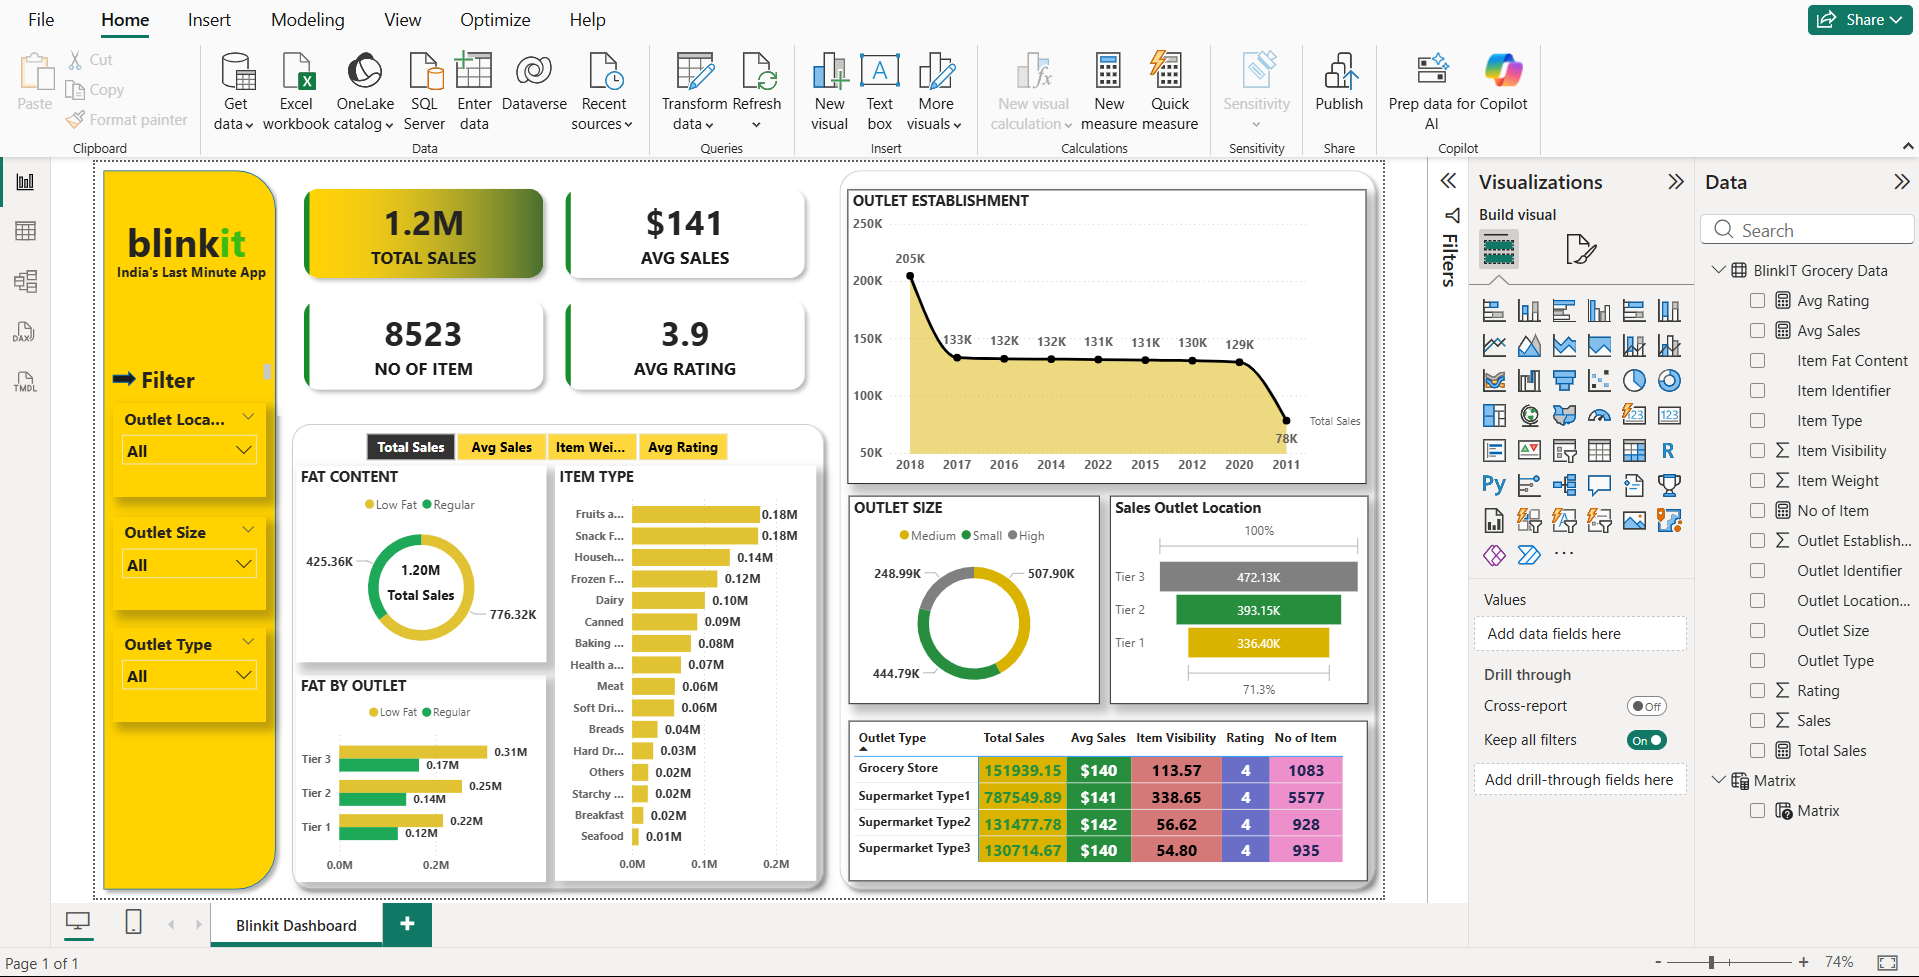

The dashboard page shown, as its layout file describes it:
{"tool":"powerbi","page":{"name":"Blinkit Dashboard","canvas":[1400,800],"ordinal":0},"visuals":[{"type":"shape","box":[0,0,205.6,800],"z":0},{"type":"textbox","box":[29.3,51.7,148.2,70.6],"z":1000},{"type":"textbox","box":[19,105.1,179.2,34.5],"z":2000},{"type":"cardVisual","fields":{"Data":["BlinkIT Grocery Data.Total Sales","BlinkIT Grocery Data.Ave Sales","BlinkIT Grocery Data.No of Item","BlinkIT Grocery Data.Avg Rating"]},"box":[198.1,0,603.3,276.2],"z":3000},{"type":"shape","box":[205,275.6,596.1,523.7],"z":4000},{"type":"donutChart","title":"FAT CONTENT","fields":{"Y":["BlinkIT Grocery Data.Total Sales"],"Category":["BlinkIT Grocery Data.Item Fat Content"]},"box":[218.8,330.8,272.2,213.6],"z":5000},{"type":"slicer","fields":{"Values":["Matrix.Matrix"]},"box":[268.7,287.7,442.7,43.1],"z":6000},{"type":"card","fields":{"Values":["BlinkIT Grocery Data.Total Sales"]},"box":[310.1,415.2,89.6,79.2],"z":7000},{"type":"clusteredBarChart","title":"FAT BY OUTLET","fields":{"Y":["BlinkIT Grocery Data.Total Sales"],"Category":["BlinkIT Grocery Data.Outlet Location Type"],"Series":["BlinkIT Grocery Data.Item Fat Content"]},"box":[218.8,556.4,272.2,225.7],"z":8000},{"type":"barChart","title":"ITEM TYPE","fields":{"Y":["BlinkIT Grocery Data.Total Sales"],"Category":["BlinkIT Grocery Data.Item Type"]},"box":[499.6,330.8,284.3,451.4],"z":9000},{"type":"shape","box":[800,0,600.3,800],"z":10000},{"type":"lineChart","title":"OUTLET ESTABLISHMENT","fields":{"Category":["BlinkIT Grocery Data.Outlet Establishment Year"],"Y":["BlinkIT Grocery Data.Total Sales"]},"box":[818,30,564.3,319.7],"z":11000},{"type":"donutChart","title":"OUTLET SIZE","fields":{"Category":["BlinkIT Grocery Data.Outlet Size"],"Y":["BlinkIT Grocery Data.Total Sales"]},"box":[819.5,363.2,273.2,226.6],"z":12000},{"type":"funnel","title":"Sales Outlet Location","fields":{"Category":["BlinkIT Grocery Data.Outlet Location Type"],"Y":["Sum(BlinkIT Grocery Data.Sales)"]},"box":[1103.1,363.2,280.7,226.6],"z":13000},{"type":"pivotTable","fields":{"Rows":["BlinkIT Grocery Data.Outlet Type"],"Values":["BlinkIT Grocery Data.Total Sales","BlinkIT Grocery Data.Avg Sales","Sum(BlinkIT Grocery Data.Item Visibility)","BlinkIT Grocery Data.Avg Rating","BlinkIT Grocery Data.No of Item"]},"box":[819.5,607.8,564.3,174.1],"z":14000},{"type":"slicer","fields":{"Values":["BlinkIT Grocery Data.Outlet Location Type"]},"box":[19,261.9,167.1,101.6],"z":15000},{"type":"slicer","fields":{"Values":["BlinkIT Grocery Data.Outlet Size"]},"box":[19,385.9,167.1,101.6],"z":16000},{"type":"slicer","fields":{"Values":["BlinkIT Grocery Data.Item Type"]},"box":[19,506.5,167.1,101.6],"z":17000},{"type":"shape","box":[19,227.4,25.8,17.2],"z":18000},{"type":"textbox","box":[44.8,215.3,151.6,41.3],"z":19000}]}

Visuals, with their boxes on the page's 1400x800 design canvas (x1, y1, x2, y2). These are canvas units, not pixel positions in the 1919x977 screenshot, which may show the page scaled, cropped or inside an application window:
shape: 0/0/206/800
textbox: 29/52/178/122
textbox: 19/105/198/140
cardVisual - BlinkIT Grocery Data.Total Sales x BlinkIT Grocery Data.Ave Sales: 198/0/801/276
shape: 205/276/801/799
"FAT CONTENT" donutChart: 219/331/491/544
slicer - Matrix.Matrix: 269/288/711/331
card - BlinkIT Grocery Data.Total Sales: 310/415/400/494
"FAT BY OUTLET" clusteredBarChart: 219/556/491/782
"ITEM TYPE" barChart: 500/331/784/782
shape: 800/0/1400/800
"OUTLET ESTABLISHMENT" lineChart: 818/30/1382/350
"OUTLET SIZE" donutChart: 820/363/1093/590
"Sales Outlet Location" funnel: 1103/363/1384/590
pivotTable - BlinkIT Grocery Data.Outlet Type x BlinkIT Grocery Data.Total Sales: 820/608/1384/782
slicer - BlinkIT Grocery Data.Outlet Location Type: 19/262/186/364
slicer - BlinkIT Grocery Data.Outlet Size: 19/386/186/488
slicer - BlinkIT Grocery Data.Item Type: 19/506/186/608
shape: 19/227/45/245
textbox: 45/215/196/257
